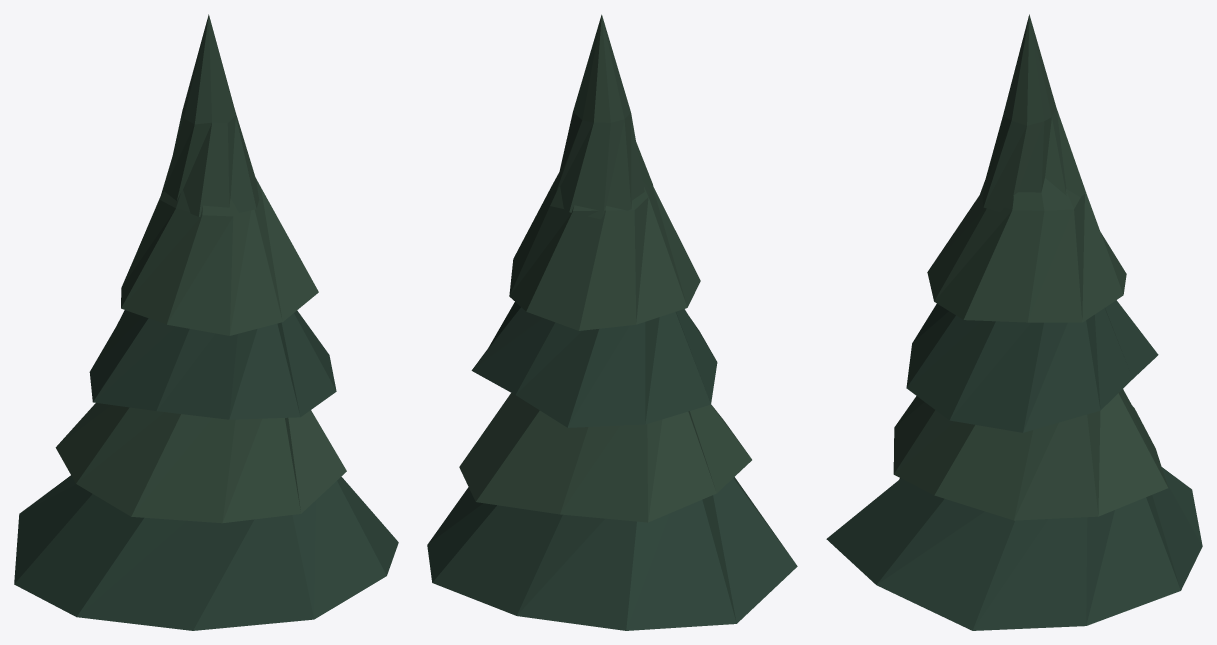
File: conifer_fir.glb
The picture shows the model from 3 angles, left to right: view 1: azimuth 30°, elevation 25°; view 2: azimuth 150°, elevation 25°; view 3: azimuth 270°, elevation 25°; orthographic projection.
Parts seen in each view (by area): view 1: conifer_fir; view 2: conifer_fir; view 3: conifer_fir.
Boxes of the visible parts, <box> form: conifer_fir: <box>14,14,398,630</box>; conifer_fir: <box>427,14,797,630</box>; conifer_fir: <box>826,14,1202,630</box>.
Size of the model in its own units: 6.32 by 10.5 by 6.4.
